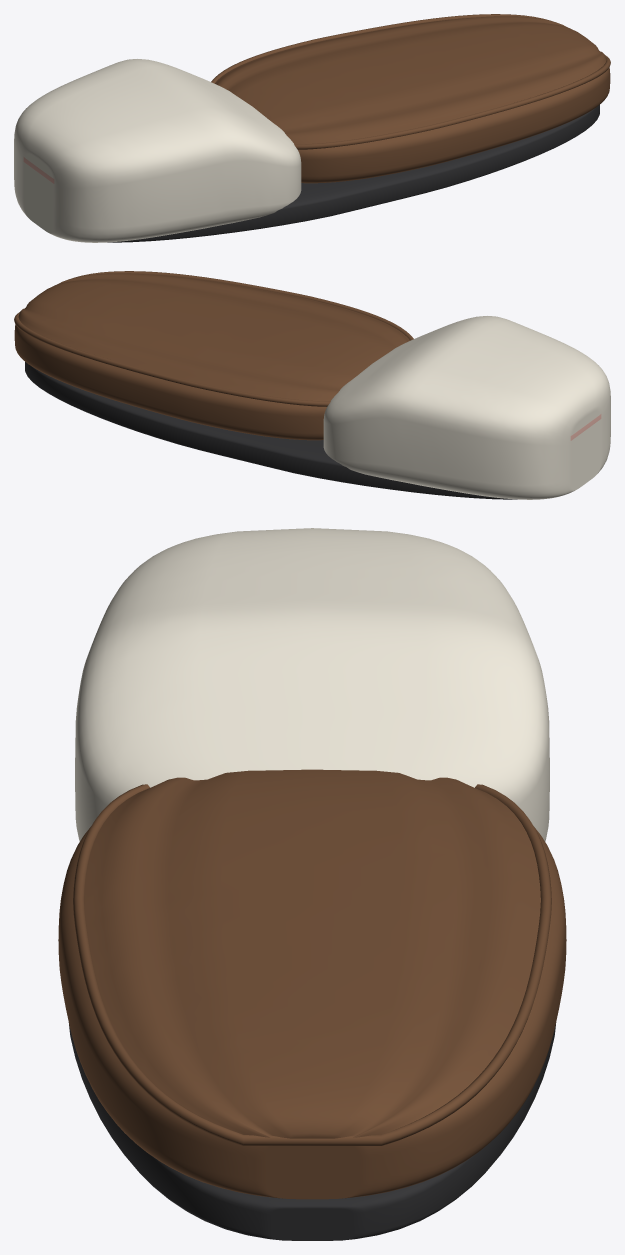
The model's file is seat_tracker.glb.
3 renders of one model, top to bottom at view 1: azimuth 30°, elevation 25°; view 2: azimuth 150°, elevation 25°; view 3: azimuth 270°, elevation 25°, orthographic. The views are drawn at different scales.
Visible parts, largest first — view 1: seat_tracker__pad, seat_tracker__tail_hump, seat_tracker__base_pan, seat_tracker__piping; view 2: seat_tracker__pad, seat_tracker__tail_hump, seat_tracker__base_pan, seat_tracker__piping; view 3: seat_tracker__pad, seat_tracker__tail_hump, seat_tracker__base_pan, seat_tracker__piping.
Boxes of the visible parts, bbox=[...] form: seat_tracker__pad: bbox=[215, 16, 610, 183]; seat_tracker__tail_hump: bbox=[14, 59, 301, 242]; seat_tracker__base_pan: bbox=[107, 105, 599, 242]; seat_tracker__piping: bbox=[211, 14, 610, 149]; seat_tracker__pad: bbox=[14, 273, 409, 440]; seat_tracker__tail_hump: bbox=[323, 316, 610, 499]; seat_tracker__base_pan: bbox=[25, 362, 517, 499]; seat_tracker__piping: bbox=[14, 271, 413, 406]; seat_tracker__pad: bbox=[58, 769, 566, 1199]; seat_tracker__tail_hump: bbox=[75, 528, 549, 841]; seat_tracker__base_pan: bbox=[68, 1022, 556, 1240]; seat_tracker__piping: bbox=[73, 784, 551, 1145].
Bounding box in the file's own units: 60.08 × 11.8 × 23.94.
